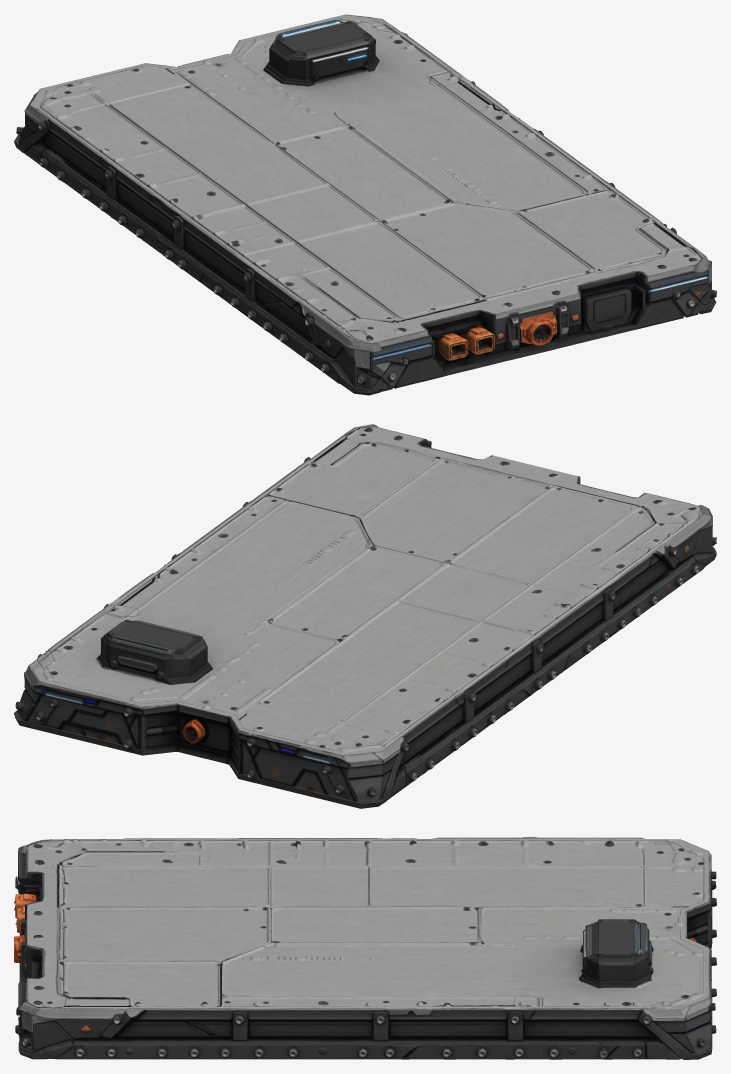
File: battery.glb
3 renders of one model, top to bottom at view 1: azimuth 30°, elevation 25°; view 2: azimuth 150°, elevation 25°; view 3: azimuth 270°, elevation 25°, orthographic.
Size of the model in its own units: 0.6095 by 0.1267 by 1.
Materials: 1 (1 with a texture image).
